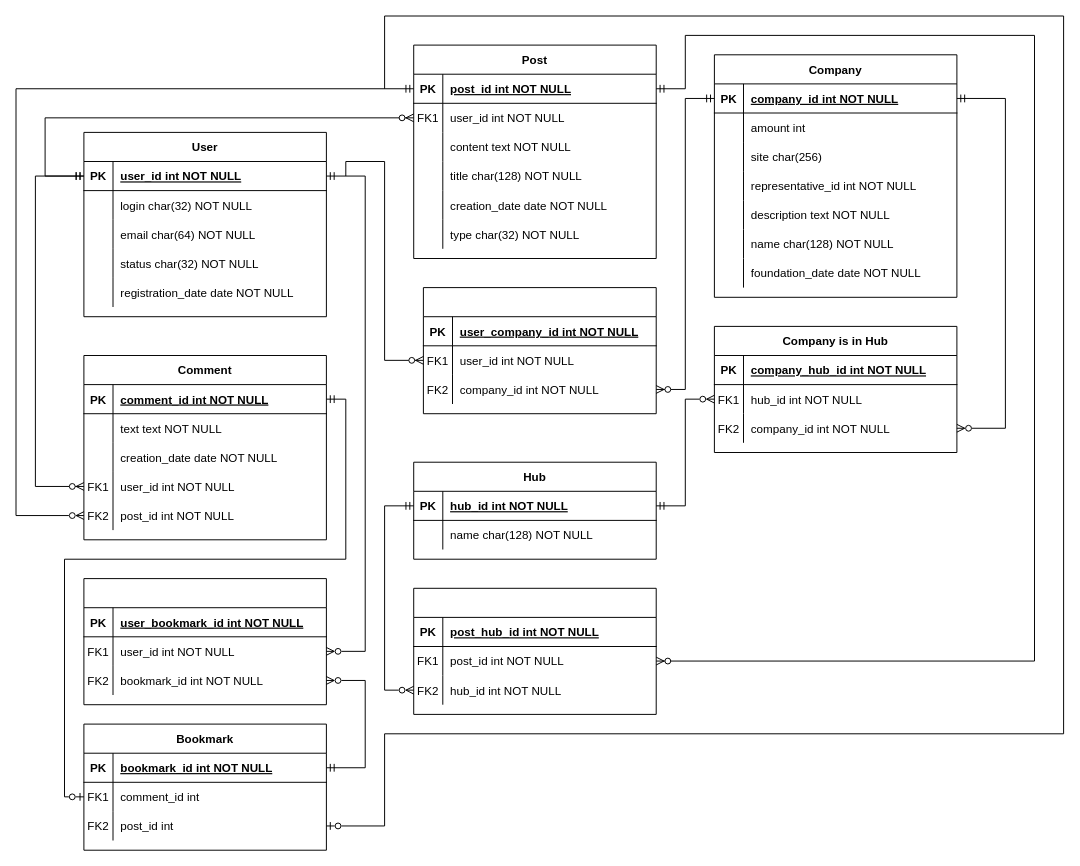
Some shapes in this 1080 by 866 pixel diagram are drawn without their labels. Each missing label, with the box of its shape:
Post is in Hub: (413, 587, 656, 714)
User has Bookmark: (83, 578, 326, 705)
User is in Company: (422, 287, 656, 414)
